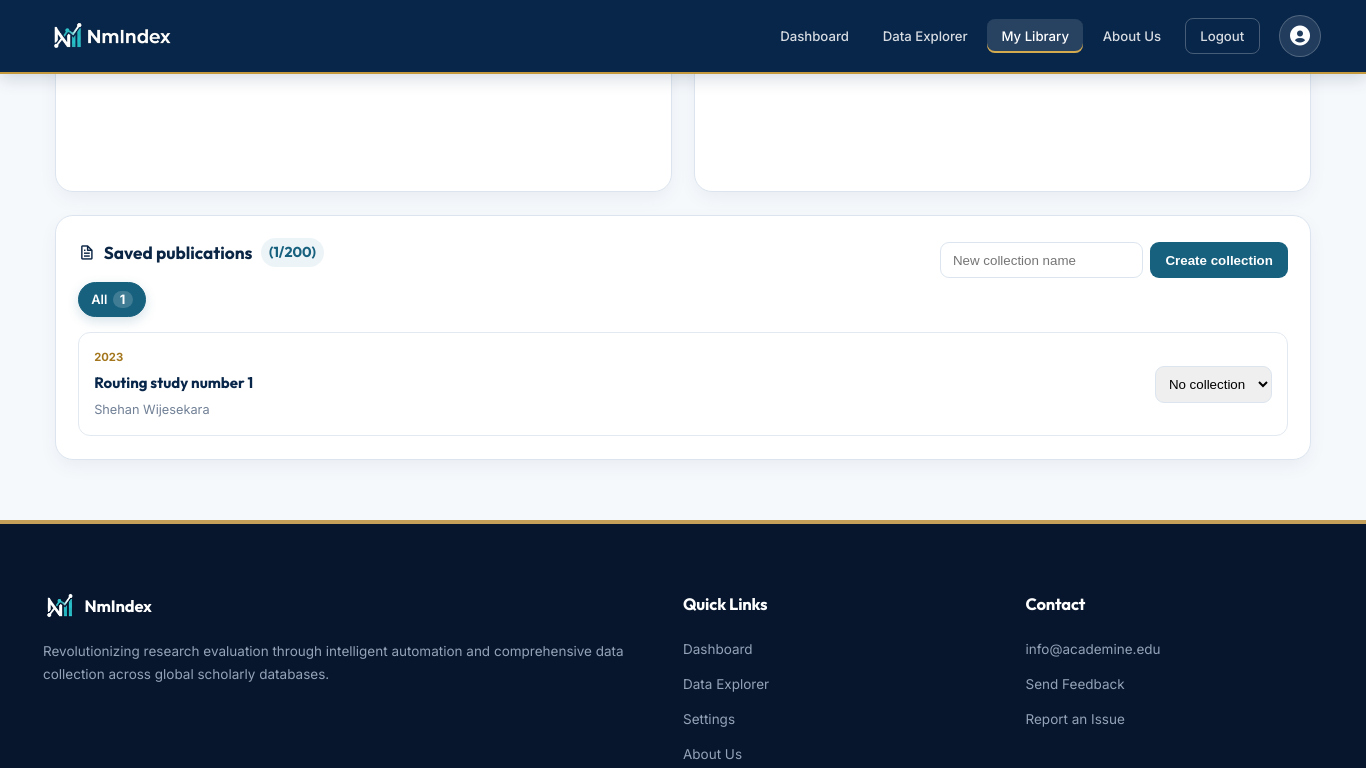
a saved paper that is no longer in the database says so
(page scrolled)
What coordinates should you click on to do the following:
click the button "2023 Routing study number 1 Shehan Wijesekara"
I would click on:
 (174, 382)
Its box is x1=94 y1=348 x2=1140 y2=420.
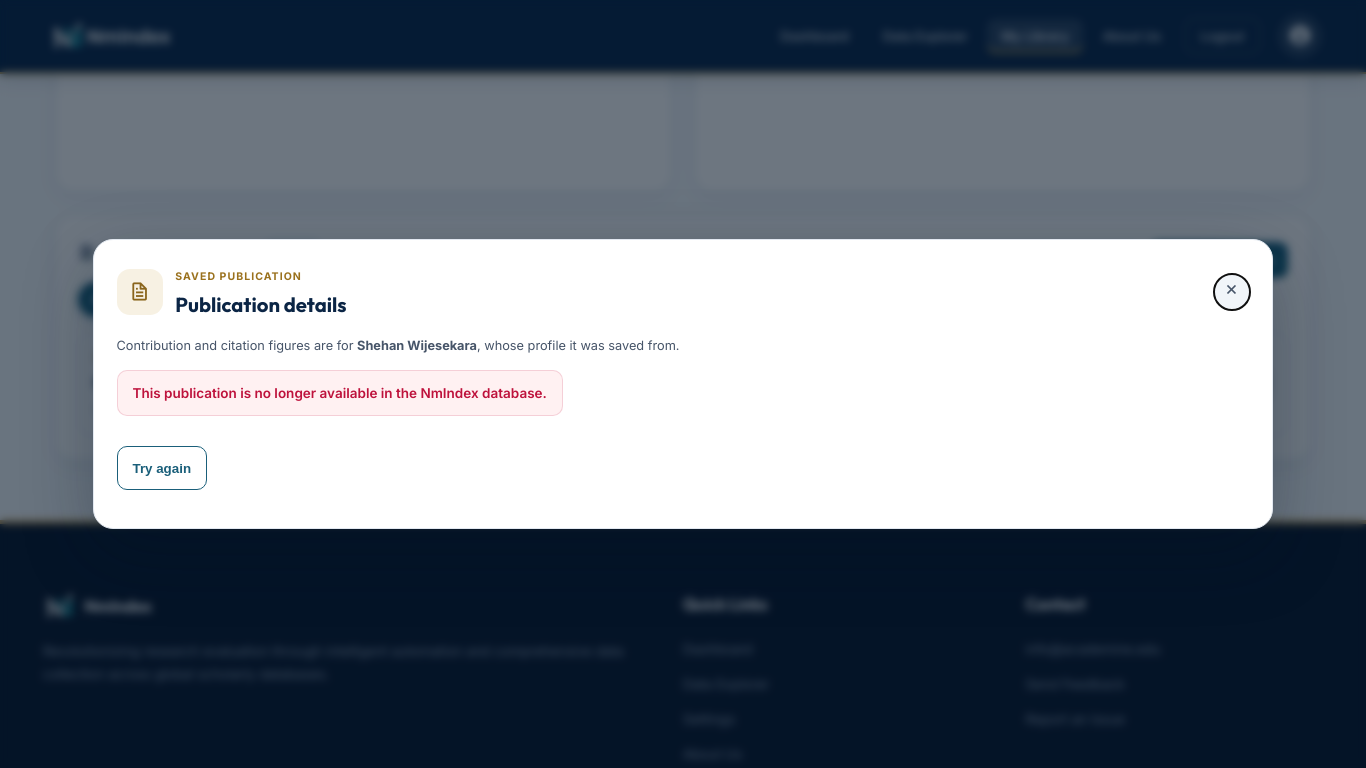
Check: the message shows "no longer available", box x1=132 y1=385 x2=547 y2=401
